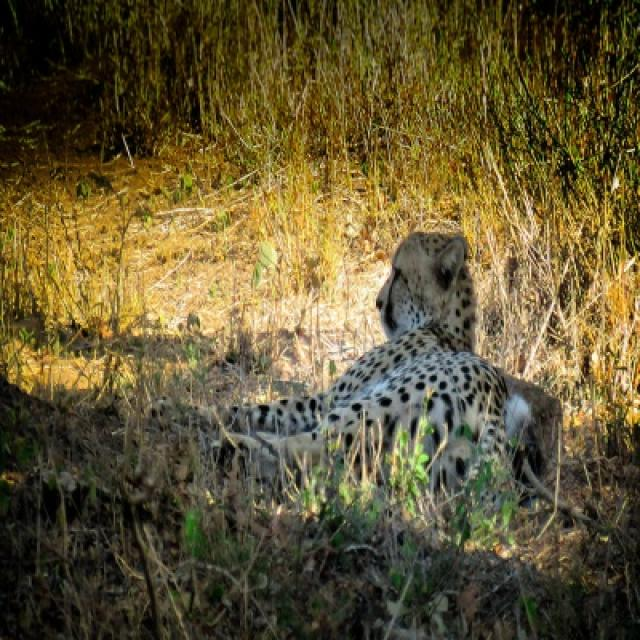Cheetah: (222, 232, 549, 502)
